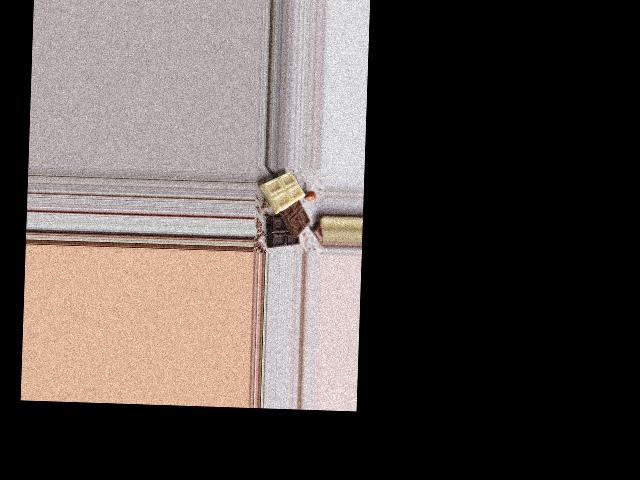chocolate: (261, 171, 311, 252)
